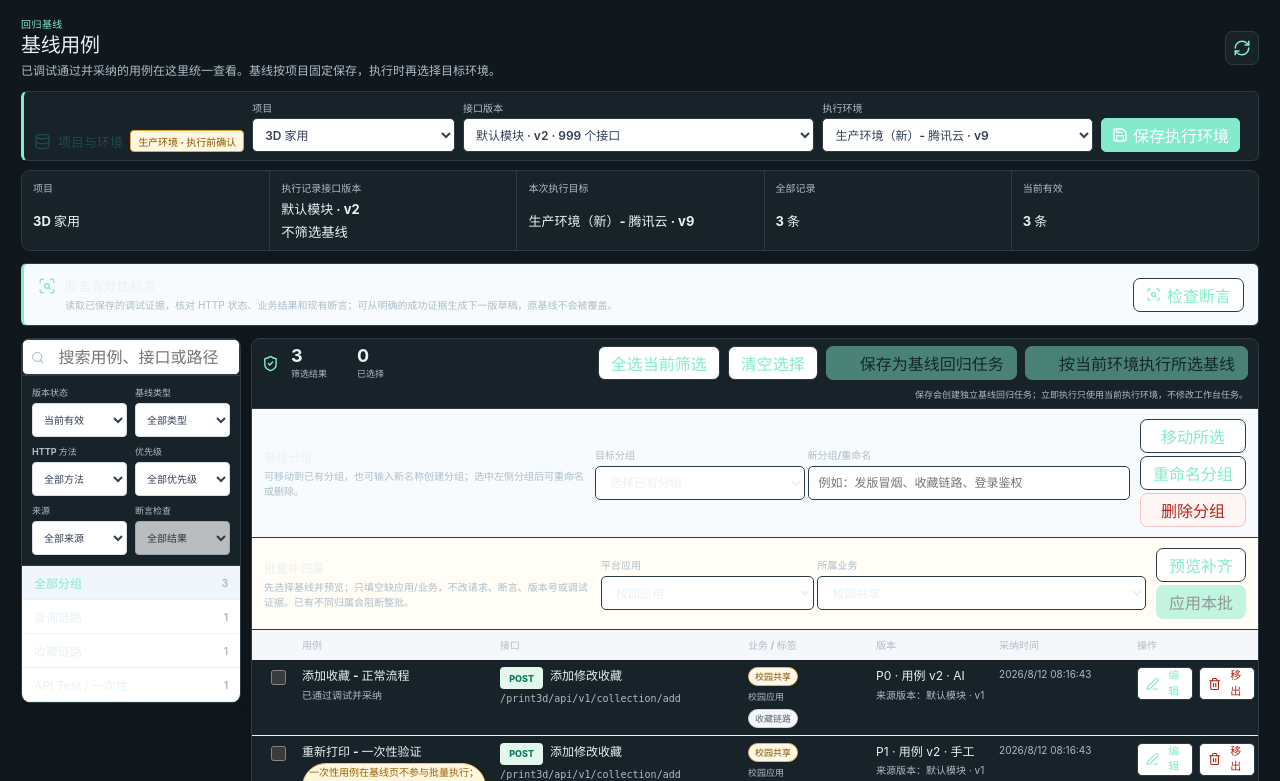
Test case: BaselinesView fixed project assets › keeps one-time cases manageable but blocks regression actions
The width and height of the screenshot is (1280, 781).
Select "一次性" in the dropdown with test id "baseline-filter-type" at (183, 420), box [135,403,230,437]
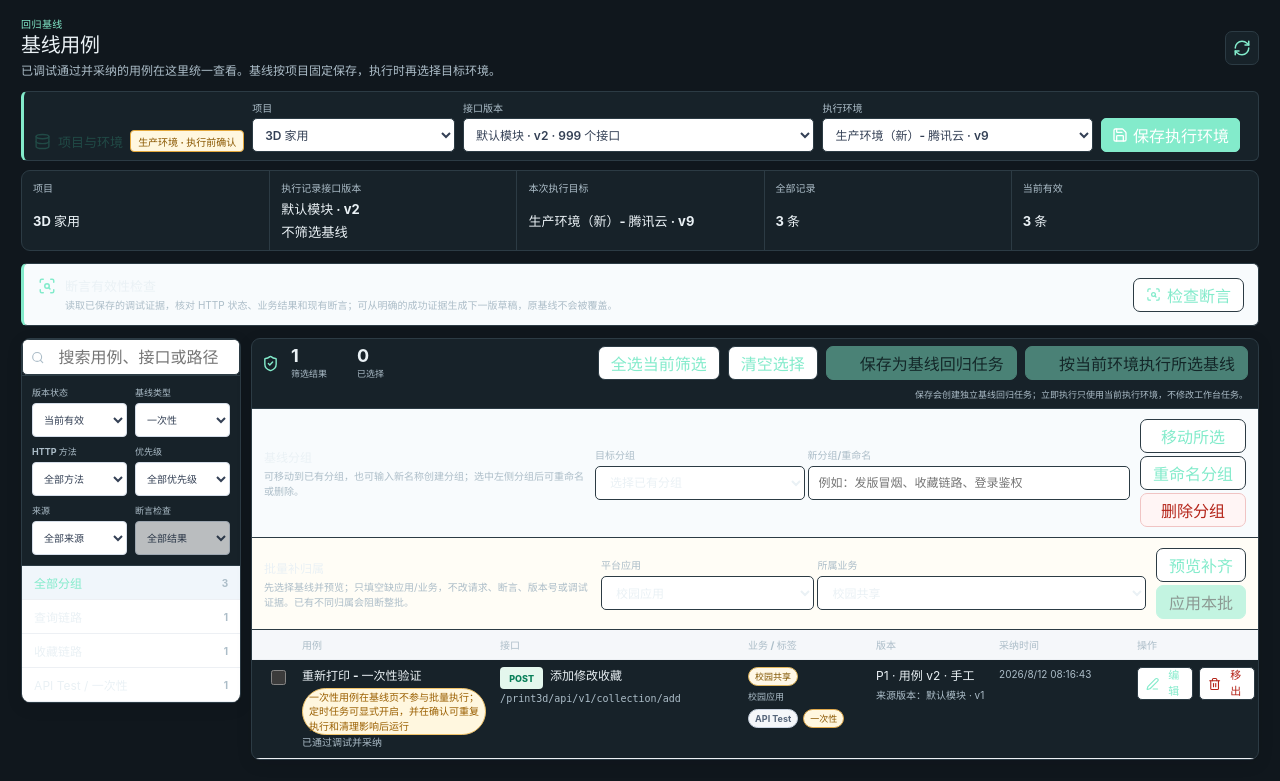
Expected: the text "重新打印 - 一次性验证" is shown, [302,668,421,683]
Expected: the text with test id "baseline-one-time-baseline-one-time" reads "一次性", [810,713,837,724]
Select "POST" in the dropdown with test id "baseline-filter-method" at (80, 479), box [32,462,127,496]
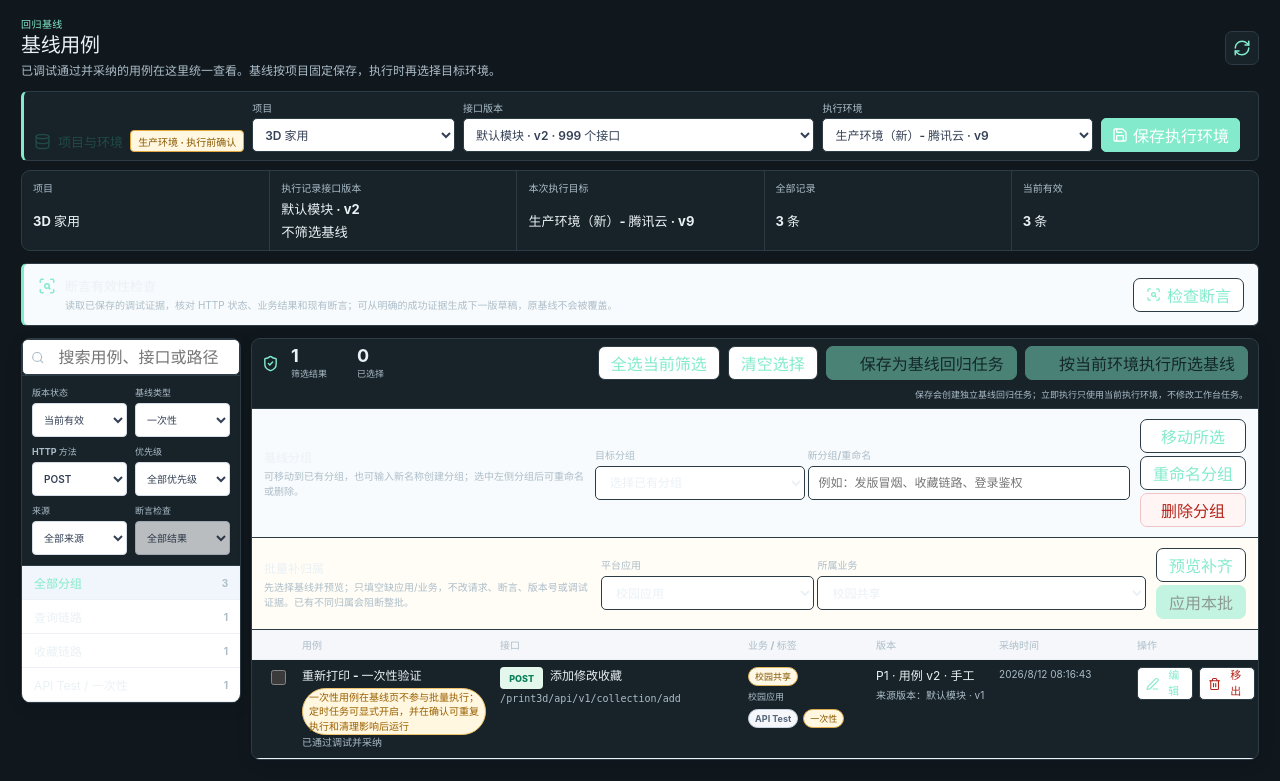
Select "P1" in the dropdown with test id "baseline-filter-priority" at (183, 479), box [135,462,230,496]
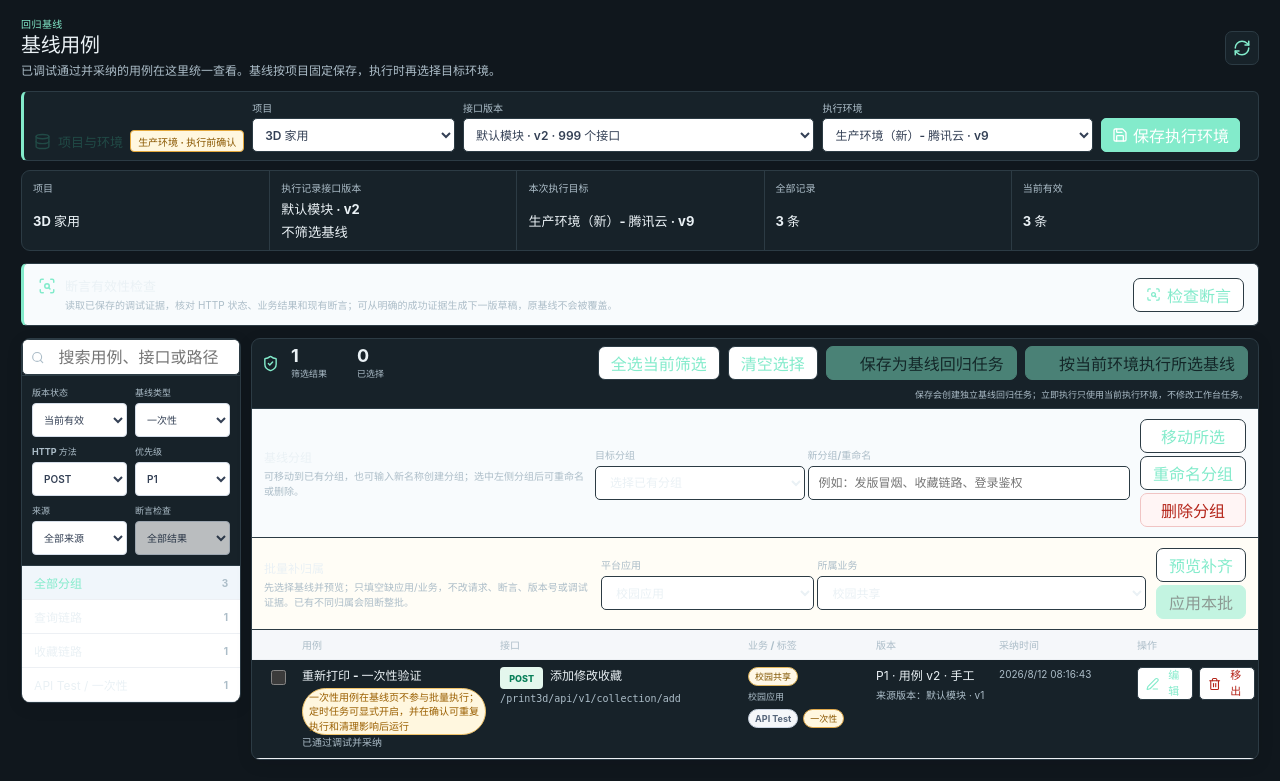
Select "手工" in the dropdown with test id "baseline-filter-origin" at (80, 538), box [32,521,127,555]
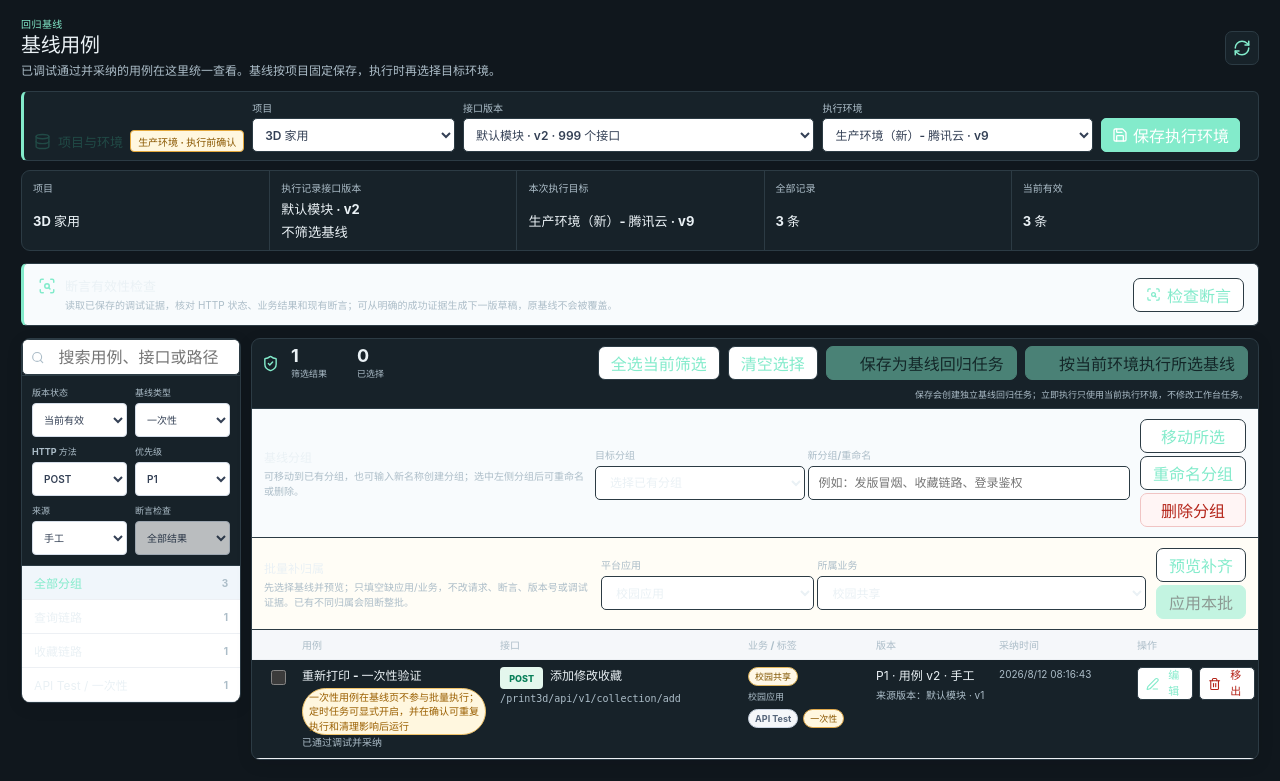
Click the button "全选当前筛选" at (659, 363), box [598,346,720,380]
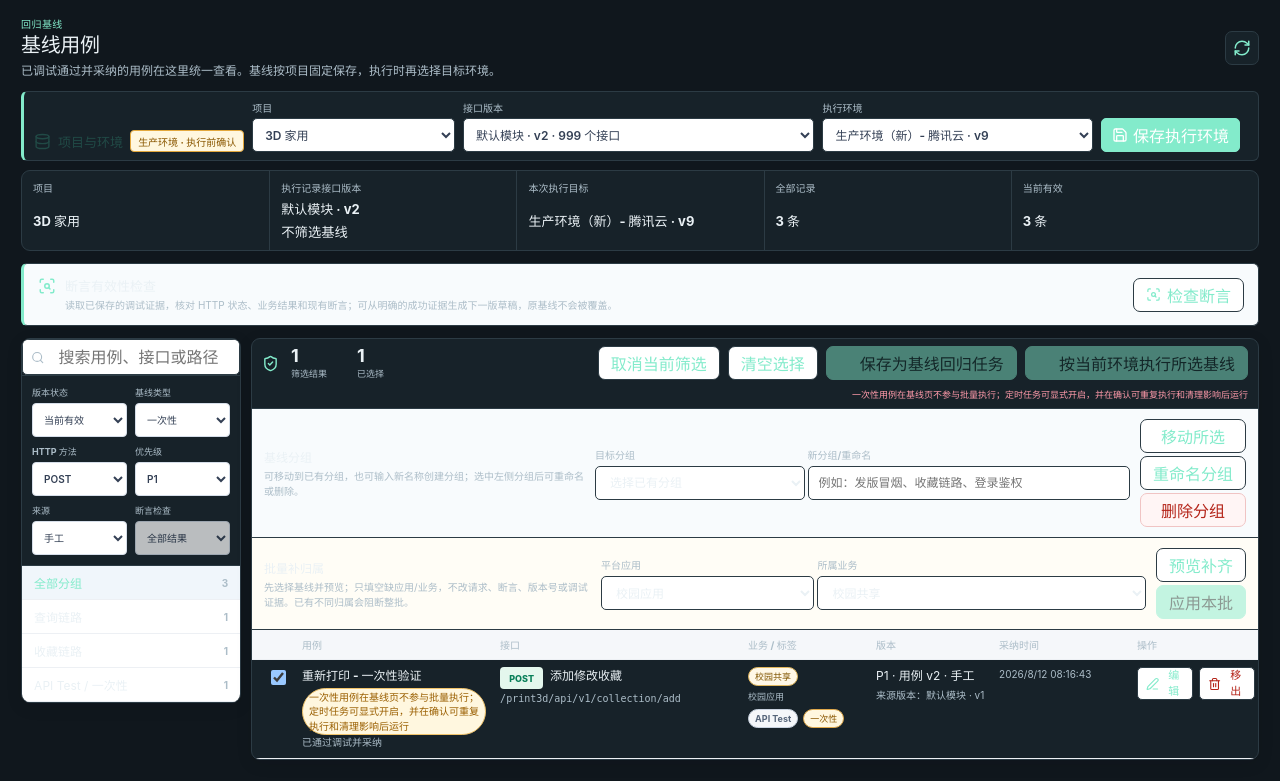
Expected: the checkbox with test id "baseline-select-baseline-one-time" is enabled, [271,670,286,685]
Now the checkbox with test id "baseline-select-baseline-one-time" is checked, box [271,670,286,685]
Select "AI" in the dropdown with test id "baseline-filter-origin" at (80, 538), box [32,521,127,555]
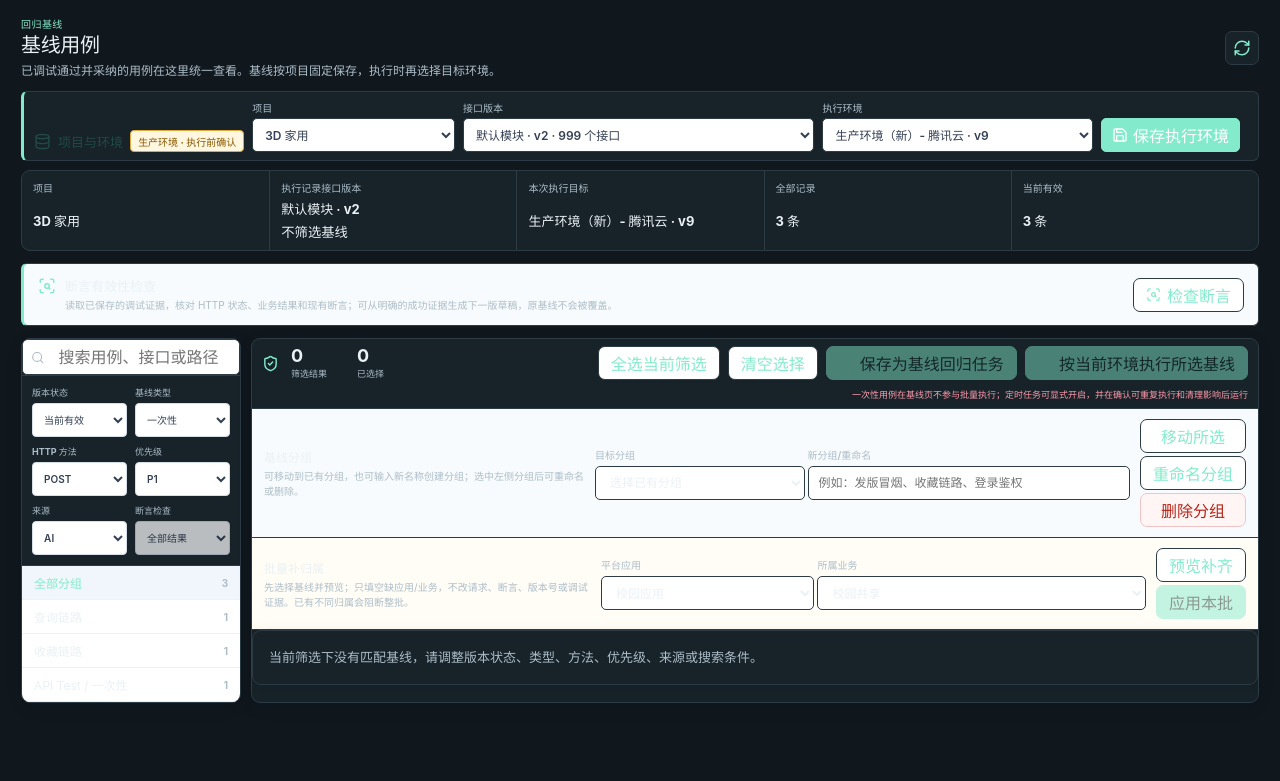
Now the text "当前筛选下没有匹配基线" is shown, box [269,649,763,665]
